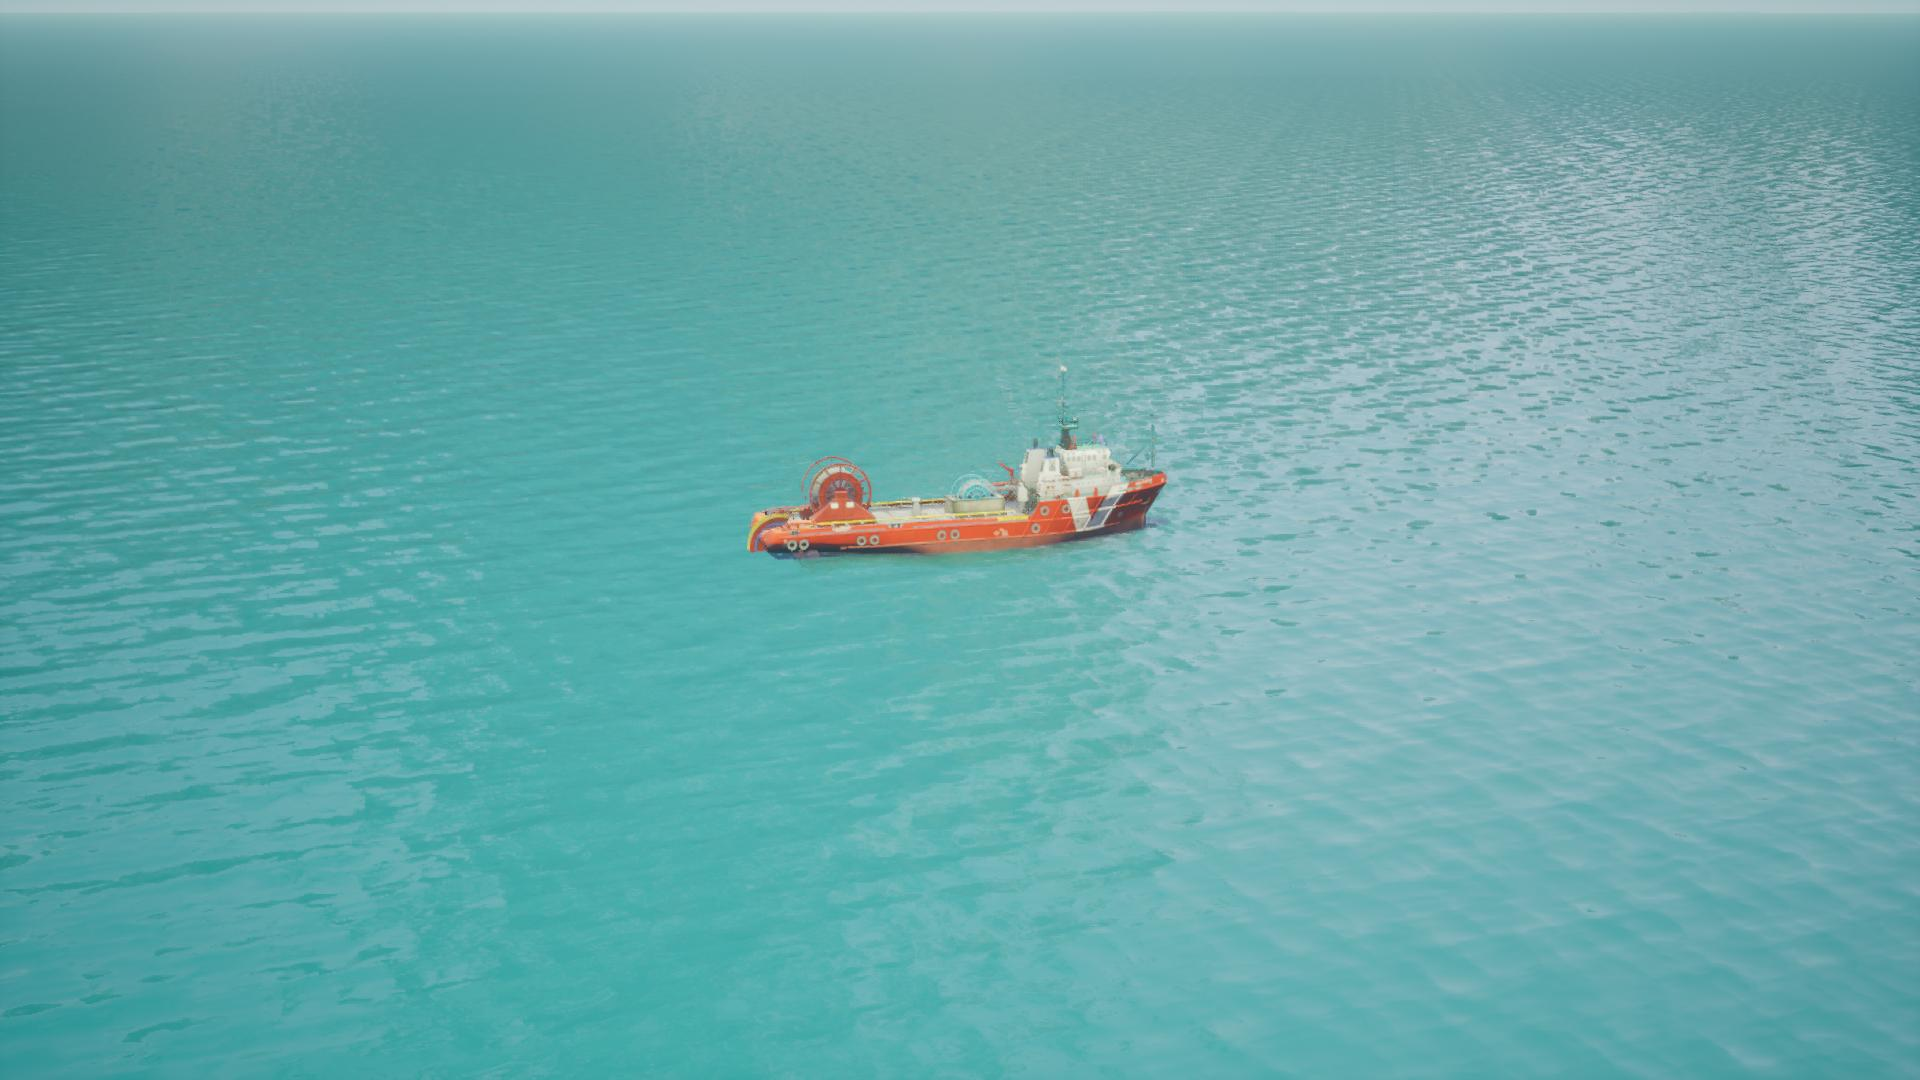Tug Boat: (748, 430, 1171, 563)
